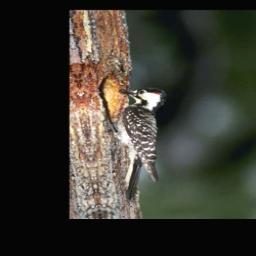Woodpecker: (97, 83, 186, 203)
